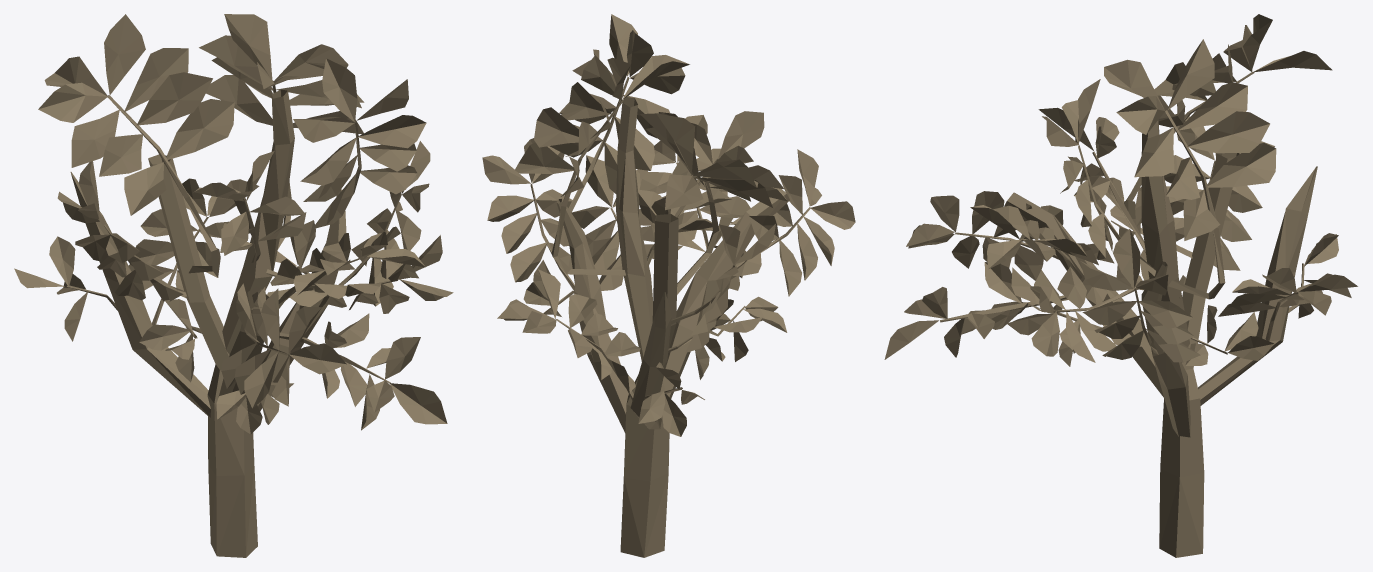
The model's file is Peach_6_3.fbx.
3 views of the same model, side by side, from view 1: azimuth 30°, elevation 25°; view 2: azimuth 150°, elevation 25°; view 3: azimuth 270°, elevation 25° (orthographic). The views are drawn at different scales.
Visible parts, largest first — view 1: Peach_6_3; view 2: Peach_6_3; view 3: Peach_6_3.
Part boxes in pixels (box(x1,y1,x2,y2)): Peach_6_3: box(14, 14, 453, 557); Peach_6_3: box(482, 14, 855, 557); Peach_6_3: box(884, 14, 1357, 557).
Bounding box in the file's own units: 368 × 548 × 462.
